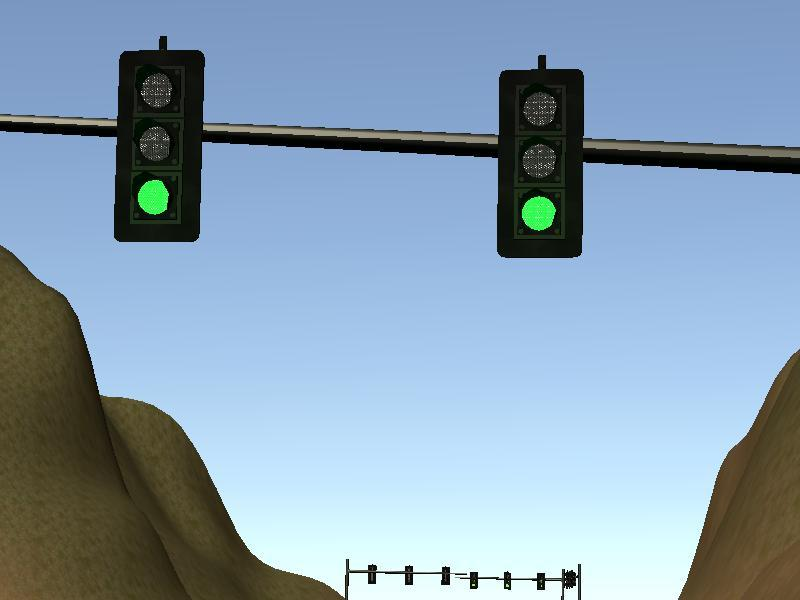Green: (498, 72, 582, 254), (118, 52, 198, 240)
